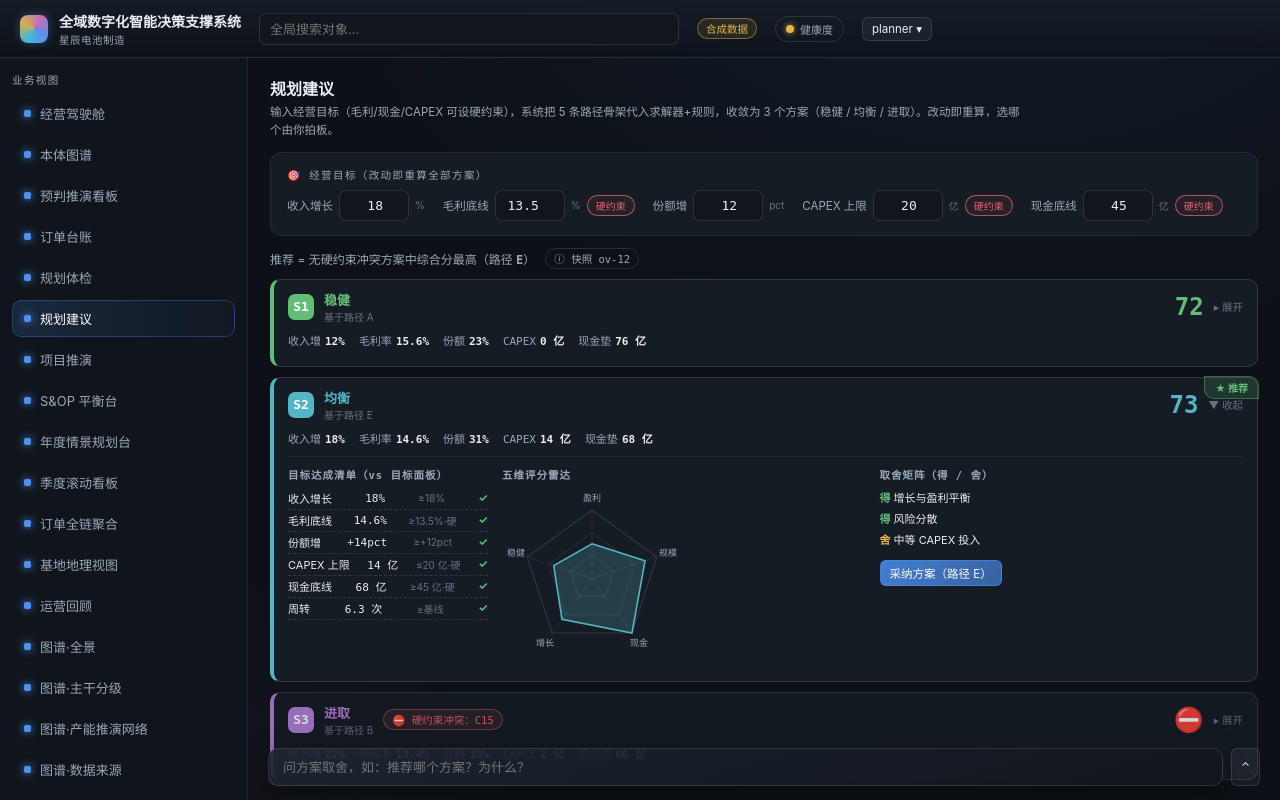
Test: F16 · 规划建议（plan-generate）目标面板与三方案卡 › 采纳按钮（actionType=采纳经营方案）：payload=方案快照+当前目标面板值 → 草稿待审批
Expected: the element with test id "scheme-S2" is shown, left=270, top=377, right=1258, bottom=682
Note: 推荐方案默认展开 → 采纳
Click the button with test id "adopt-scheme-S2" at (941, 574), box left=880, top=560, right=1002, bottom=586
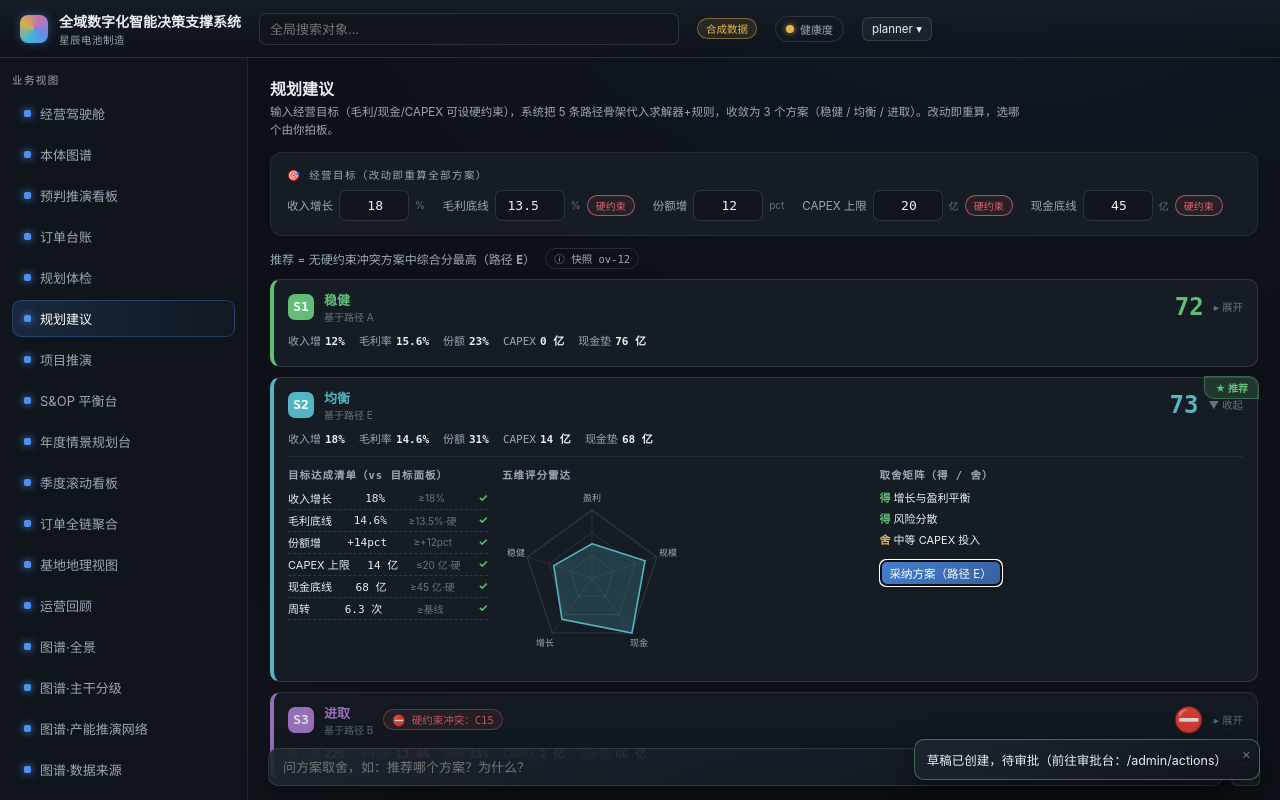
Result: the text "草稿已创建，待审批（前往审批台：/admin/actions）" is shown at left=927, top=750, right=1227, bottom=769
